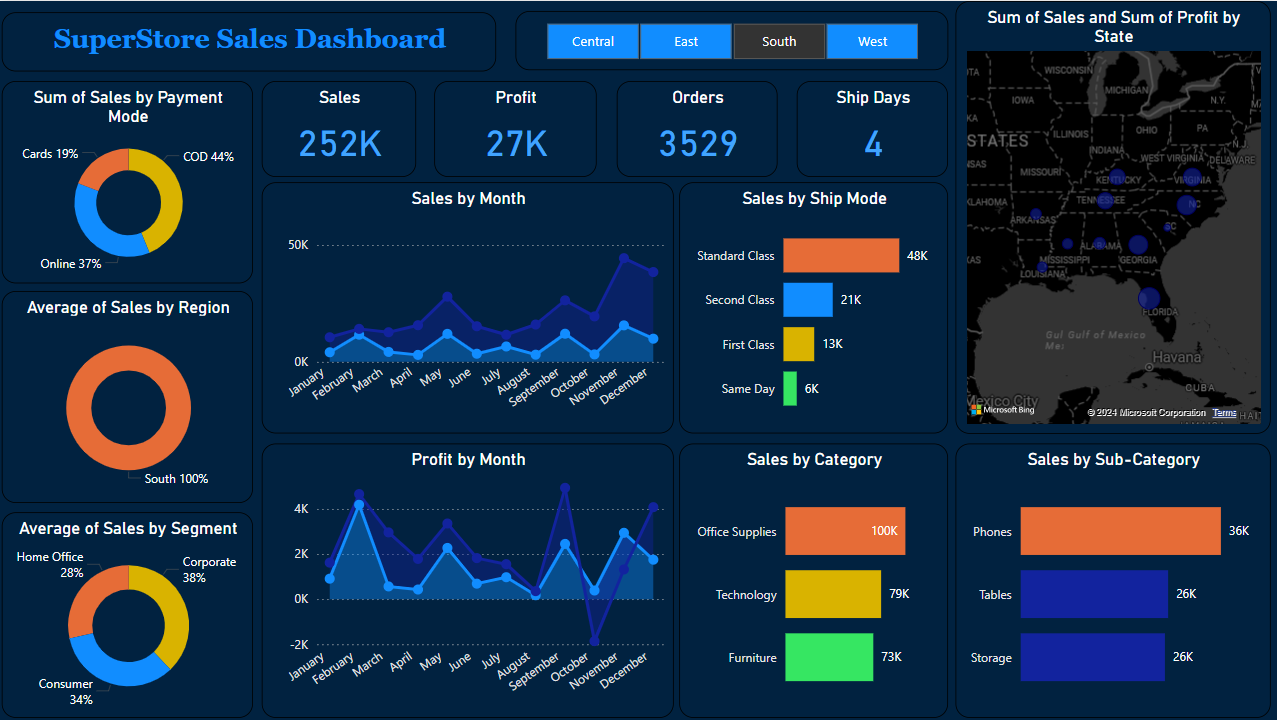

The dashboard page shown, as its layout file describes it:
{"tool":"powerbi","page":{"name":"Dashboard","canvas":[1280,720],"ordinal":0},"visuals":[{"type":"clusteredBarChart","title":"Sales by Category","fields":{"Category":["SuperStore_Sales_Dataset.Category"],"Y":["Sum(SuperStore_Sales_Dataset.Sales)"]},"box":[681.1,441.9,268.9,274.3],"z":0},{"type":"clusteredBarChart","title":"Sales by Sub-Category","fields":{"Category":["SuperStore_Sales_Dataset.Sub-Category"],"Y":["Sum(SuperStore_Sales_Dataset.Sales)"]},"box":[958.1,441.9,314.9,274.3],"z":1000},{"type":"clusteredBarChart","title":"Sales by Ship Mode","fields":{"Category":["SuperStore_Sales_Dataset.Ship Mode"],"Y":["Sum(SuperStore_Sales_Dataset.Sales)"]},"box":[681.1,181.1,268.9,251.4],"z":2000},{"type":"stackedAreaChart","title":"Sales by Month","fields":{"Y":["Sum(SuperStore_Sales_Dataset.Sales)"],"Category":["SuperStore_Sales_Dataset.Order Date.Variation.Date Hierarchy.Month","SuperStore_Sales_Dataset.Order Date.Variation.Date Hierarchy.Day"],"Series":["SuperStore_Sales_Dataset.Order Date.Variation.Date Hierarchy.Year"]},"box":[263.5,181.1,412.2,251.4],"z":3000},{"type":"stackedAreaChart","title":"Profit by Month","fields":{"Category":["SuperStore_Sales_Dataset.Order Date.Variation.Date Hierarchy.Month","SuperStore_Sales_Dataset.Order Date.Variation.Date Hierarchy.Day"],"Series":["SuperStore_Sales_Dataset.Order Date.Variation.Date Hierarchy.Year"],"Y":["Sum(SuperStore_Sales_Dataset.Profit)"]},"box":[263.5,441.9,412.2,274.3],"z":4000},{"type":"map","fields":{"Category":["SuperStore_Sales_Dataset.State"],"Size":["Sum(SuperStore_Sales_Dataset.Sales)"]},"box":[958.1,0,314.9,432.4],"z":5000},{"type":"textbox","box":[4.1,10.8,494.6,59.5],"z":6000},{"type":"donutChart","fields":{"Category":["SuperStore_Sales_Dataset.Segment"],"Y":["Avg(SuperStore_Sales_Dataset.Sales)"]},"box":[4.1,510.8,251.4,205.4],"z":7000},{"type":"donutChart","fields":{"Category":["SuperStore_Sales_Dataset.Payment Mode"],"Y":["Sum(SuperStore_Sales_Dataset.Sales)"]},"box":[4.1,79.7,251.4,202.7],"z":8000},{"type":"donutChart","fields":{"Y":["Avg(SuperStore_Sales_Dataset.Sales)"],"Category":["SuperStore_Sales_Dataset.Region"]},"box":[4.1,290.5,251.4,212.2],"z":9000},{"type":"card","title":"Sales","fields":{"Values":["Sum(SuperStore_Sales_Dataset.Sales)"]},"box":[263.5,79.7,154.1,95.9],"z":10000},{"type":"card","title":"Profit","fields":{"Values":["Sum(SuperStore_Sales_Dataset.Profit)"]},"box":[436.5,79.7,162.2,95.9],"z":11000},{"type":"card","title":"Orders","fields":{"Values":["Sum(SuperStore_Sales_Dataset.Quantity)"]},"box":[618.9,79.7,160.8,95.9],"z":12000},{"type":"card","title":"Ship Days","fields":{"Values":["Avg(SuperStore_Sales_Dataset.AvgDelivery)"]},"box":[798.6,79.7,151.4,95.9],"z":13000},{"type":"slicer","fields":{"Values":["SuperStore_Sales_Dataset.Region"]},"box":[517.4,10.5,432.6,59.3],"z":14000}]}

Visuals, with their boxes in screenshot pixels (x1, y1, x2, y2), scaled from the page's 1280x720 canvas onto the 1277x720 screenshot:
"Sales by Category" clusteredBarChart: 680:442:948:716
"Sales by Sub-Category" clusteredBarChart: 956:442:1270:716
"Sales by Ship Mode" clusteredBarChart: 680:181:948:432
"Sales by Month" stackedAreaChart: 263:181:674:432
"Profit by Month" stackedAreaChart: 263:442:674:716
map - SuperStore_Sales_Dataset.State x Sum(SuperStore_Sales_Dataset.Sales): 956:0:1270:432
textbox: 4:11:498:70
donutChart - SuperStore_Sales_Dataset.Segment x Avg(SuperStore_Sales_Dataset.Sales): 4:511:255:716
donutChart - SuperStore_Sales_Dataset.Payment Mode x Sum(SuperStore_Sales_Dataset.Sales): 4:80:255:282
donutChart - Avg(SuperStore_Sales_Dataset.Sales) x SuperStore_Sales_Dataset.Region: 4:290:255:503
"Sales" card: 263:80:417:176
"Profit" card: 435:80:597:176
"Orders" card: 617:80:778:176
"Ship Days" card: 797:80:948:176
slicer - SuperStore_Sales_Dataset.Region: 516:10:948:70
